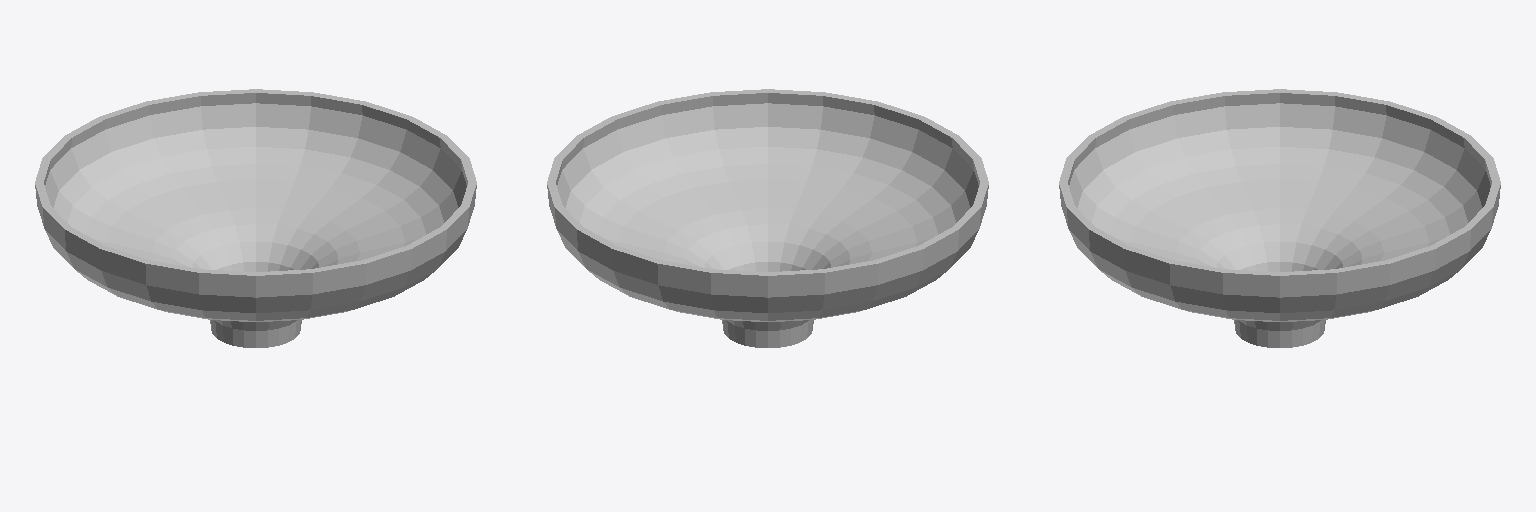
The model's file is hopper2.obj.
3 views of the same model, side by side, from view 1: azimuth 30°, elevation 25°; view 2: azimuth 150°, elevation 25°; view 3: azimuth 270°, elevation 25° (orthographic).
Visible parts, largest first — view 1: Hopper2_Mesh; view 2: Hopper2_Mesh; view 3: Hopper2_Mesh.
Part boxes in pixels (x1,y1,x2,y2): Hopper2_Mesh: (35, 89, 476, 347); Hopper2_Mesh: (547, 89, 988, 347); Hopper2_Mesh: (1059, 89, 1500, 347).
Size of the model in its own units: 9.84 by 3.61 by 9.84.